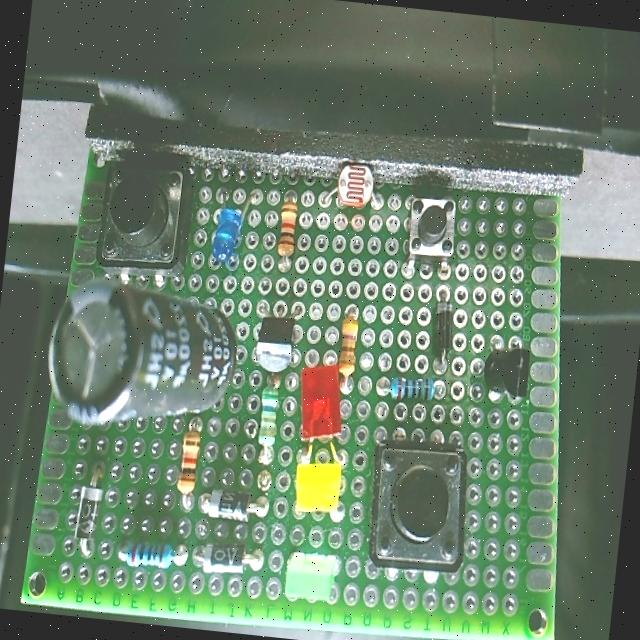Electrolytic capacitor: (34, 276, 250, 441)
cds: (324, 143, 398, 217)
diode: (193, 533, 252, 583), (67, 478, 104, 553), (429, 286, 460, 366), (202, 488, 264, 524)
led: (198, 182, 256, 272), (294, 358, 350, 448), (280, 538, 346, 608), (290, 442, 347, 518)
resistor: (118, 524, 188, 584), (327, 301, 369, 388), (266, 177, 305, 266), (164, 422, 204, 507), (250, 382, 286, 458), (387, 368, 443, 408)
switch: (364, 434, 471, 578), (90, 147, 202, 278), (404, 185, 465, 268)
transistor: (478, 323, 539, 407), (256, 304, 305, 378)
